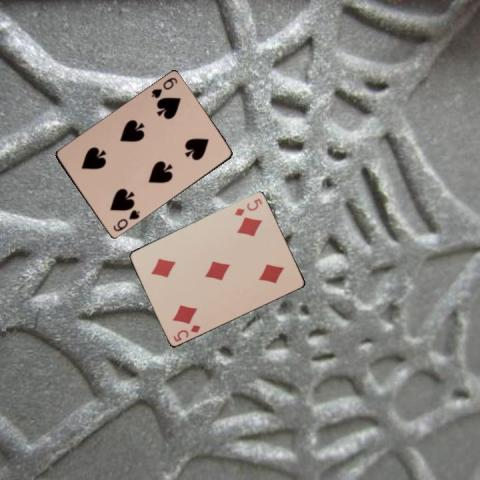5d: (231, 196, 264, 218), (170, 322, 202, 344)
6s: (110, 207, 141, 233), (148, 75, 179, 100)
